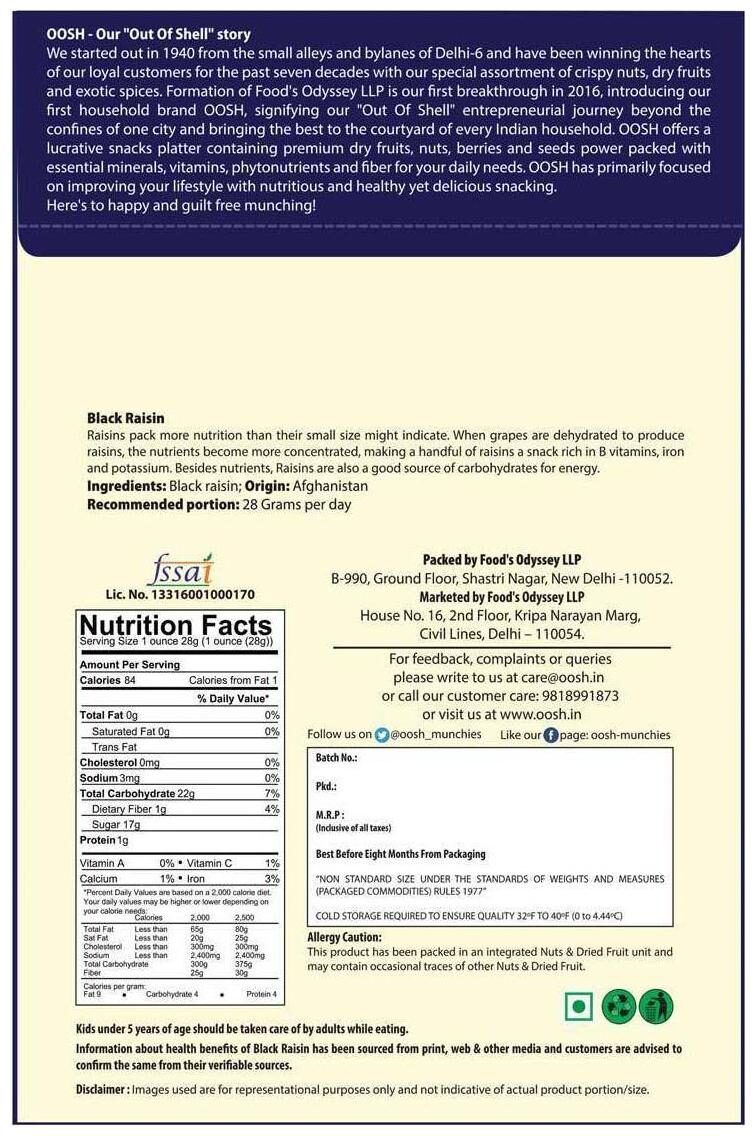fssai: (145, 551, 215, 587)
